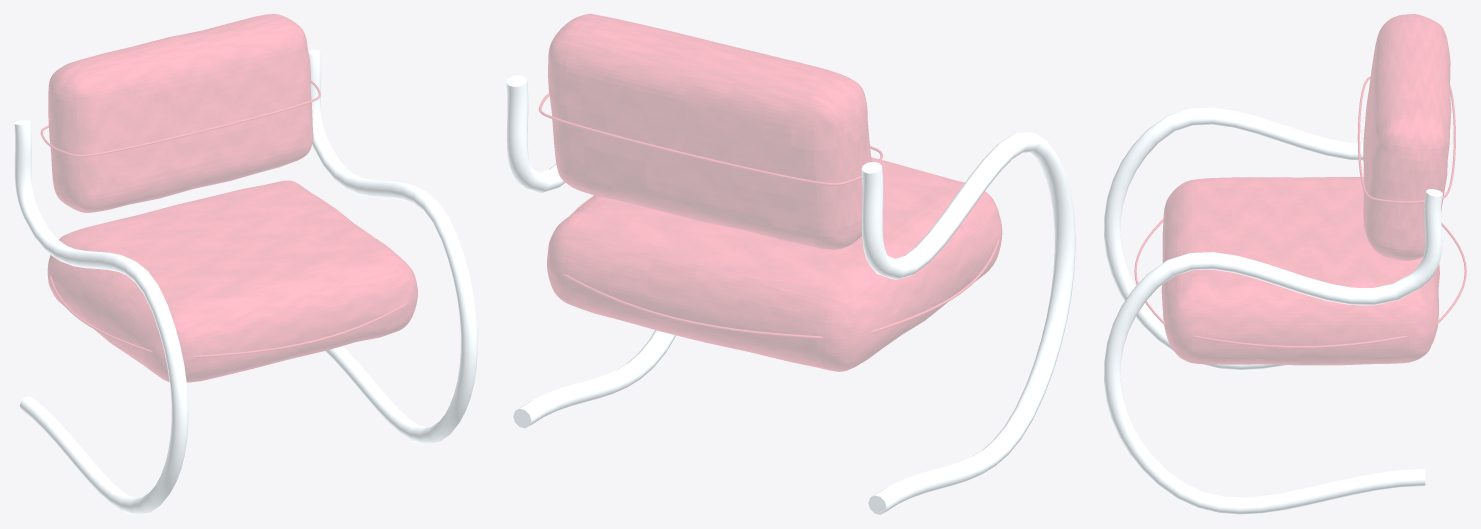
The model's file is ref06_03.glb.
The picture shows the model from 3 angles, left to right: view 1: azimuth 30°, elevation 25°; view 2: azimuth 150°, elevation 25°; view 3: azimuth 270°, elevation 25°; orthographic projection. The views are drawn at different scales.
Visible parts, largest first — view 1: ref06_03; view 2: ref06_03; view 3: ref06_03.
Boxes of the visible parts, x1=… form: ref06_03: x1=14, y1=14, x2=477, y2=514; ref06_03: x1=506, y1=14, x2=1075, y2=514; ref06_03: x1=1104, y1=14, x2=1466, y2=514.
Size of the model in its own units: 0.7818 by 0.902 by 0.7853.
Materials: 2 (1 with a texture image).
